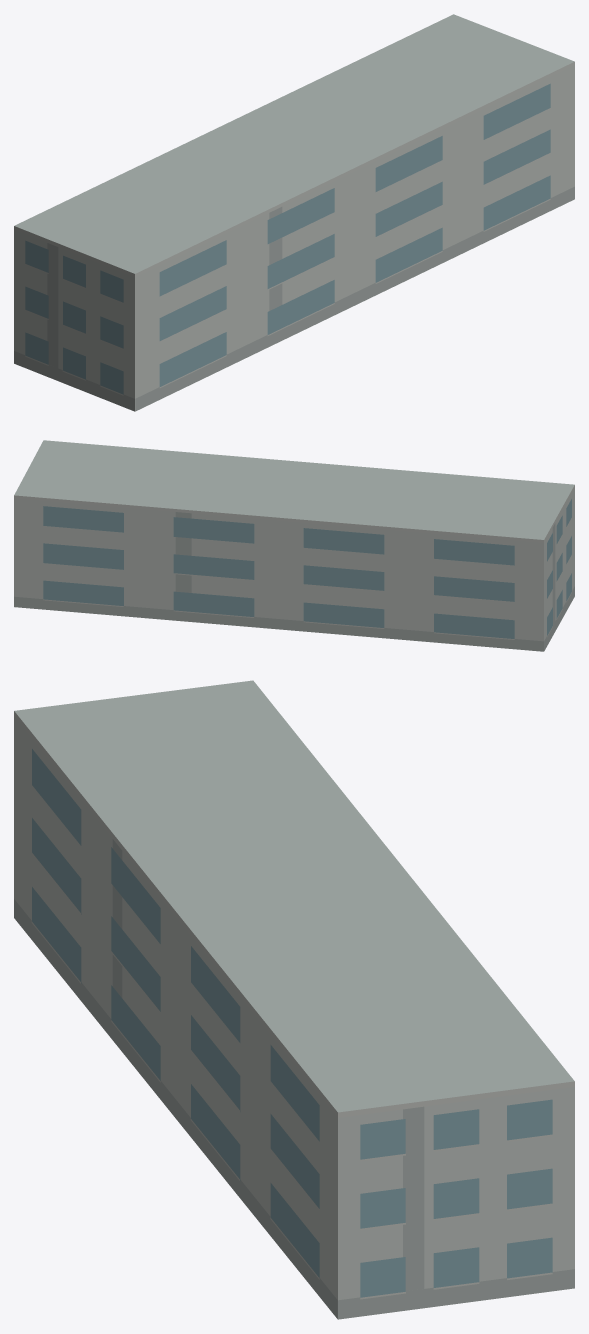
File: survey-upis-33014140.glb
3 renders of one model, top to bottom at view 1: azimuth 30°, elevation 25°; view 2: azimuth 150°, elevation 25°; view 3: azimuth 270°, elevation 25°, orthographic. The views are drawn at different scales.
Visible parts, largest first — view 1: survey-upis-33014140.tmp; view 2: survey-upis-33014140.tmp; view 3: survey-upis-33014140.tmp.
Boxes of the visible parts, left/top/right/bottom form: survey-upis-33014140.tmp: left=14, top=14, right=574, bottom=411; survey-upis-33014140.tmp: left=14, top=440, right=574, bottom=651; survey-upis-33014140.tmp: left=14, top=680, right=574, bottom=1319.
Bounding box in the file's own units: 40.96 × 9.15 × 22.47.
